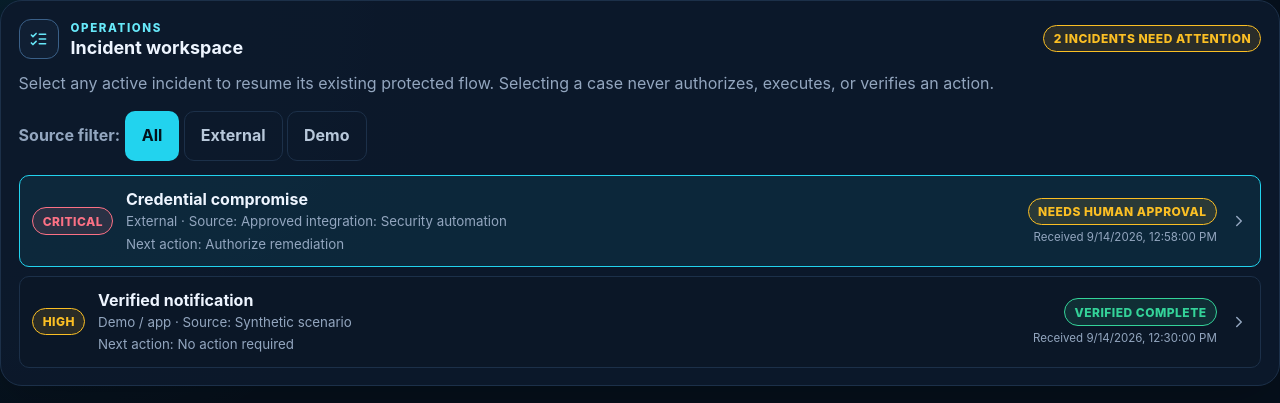
Test case: IncidentWorkspaceQueue › filters external and demo application incidents without changing backend state
Click the button "External".
click(233, 136)  # box [184,111,282,161]
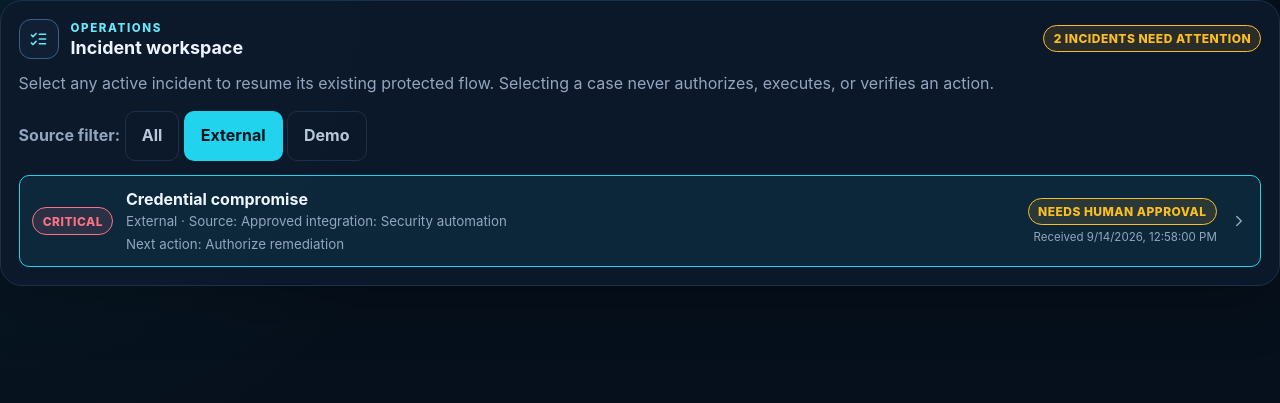
Check: the text "Credential compromise" is shown, box [126,189,308,209]
Check: the button "Verified notification" is gone
Click the button "Demo".
click(327, 136)  # box [287,111,366,161]
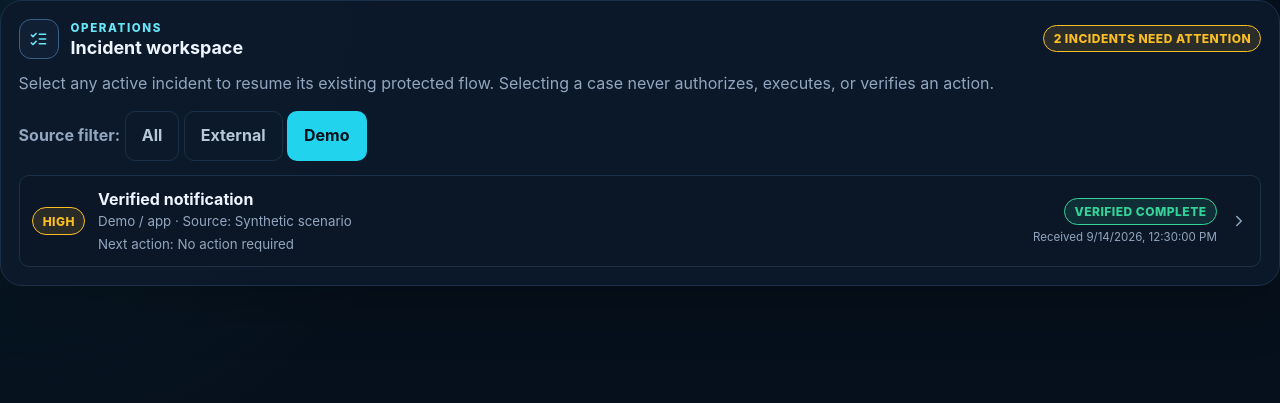
Check: the button "Credential compromise" is gone
Check: the text "Verified notification" is shown, box [98,189,253,209]
Click the button "All".
click(152, 136)  # box [125,111,179,161]
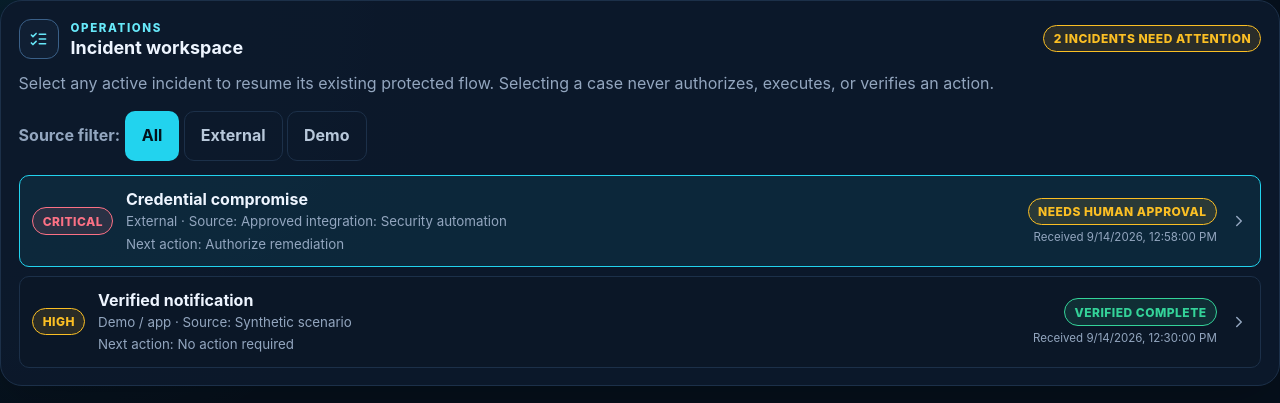
Check: the text "Verified notification" is shown, box [98,290,253,310]
Check: the text "Credential compromise" is shown, box [126,189,308,209]
